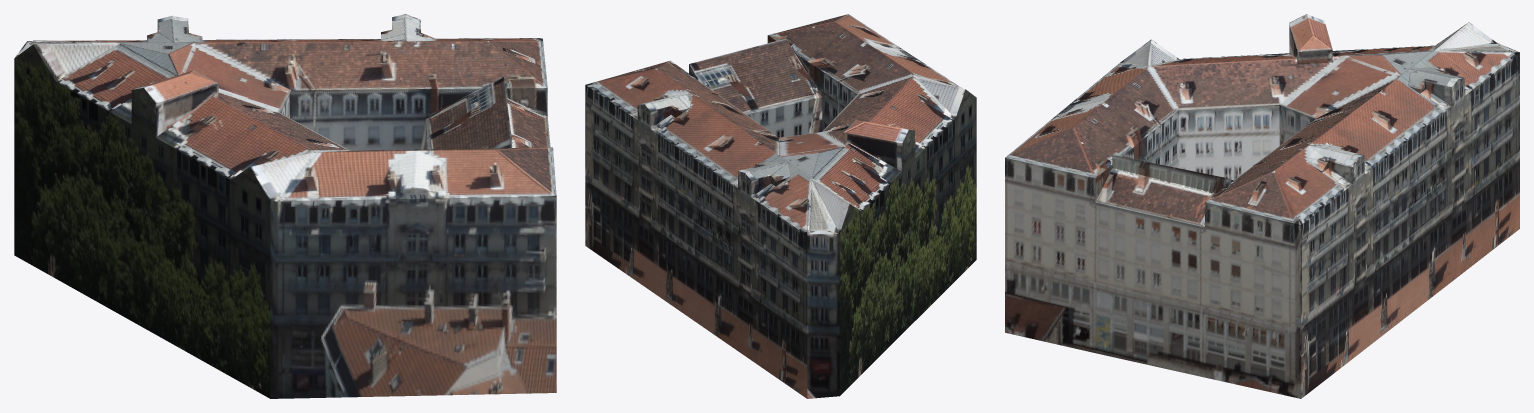
3 renders of one model, left to right at view 1: azimuth 30°, elevation 25°; view 2: azimuth 150°, elevation 25°; view 3: azimuth 270°, elevation 25°, orthographic. The views are drawn at different scales.
Visible parts, largest first — view 1: Z_UP; view 2: Z_UP; view 3: Z_UP.
Part boxes in pixels (x1=…): Z_UP: x1=14, y1=14, x2=556, y2=398; Z_UP: x1=585, y1=14, x2=976, y2=398; Z_UP: x1=1005, y1=14, x2=1519, y2=398.
Size of the model in its own units: 52.08 by 28.54 by 62.42.
Materials: 2 (1 with a texture image).
